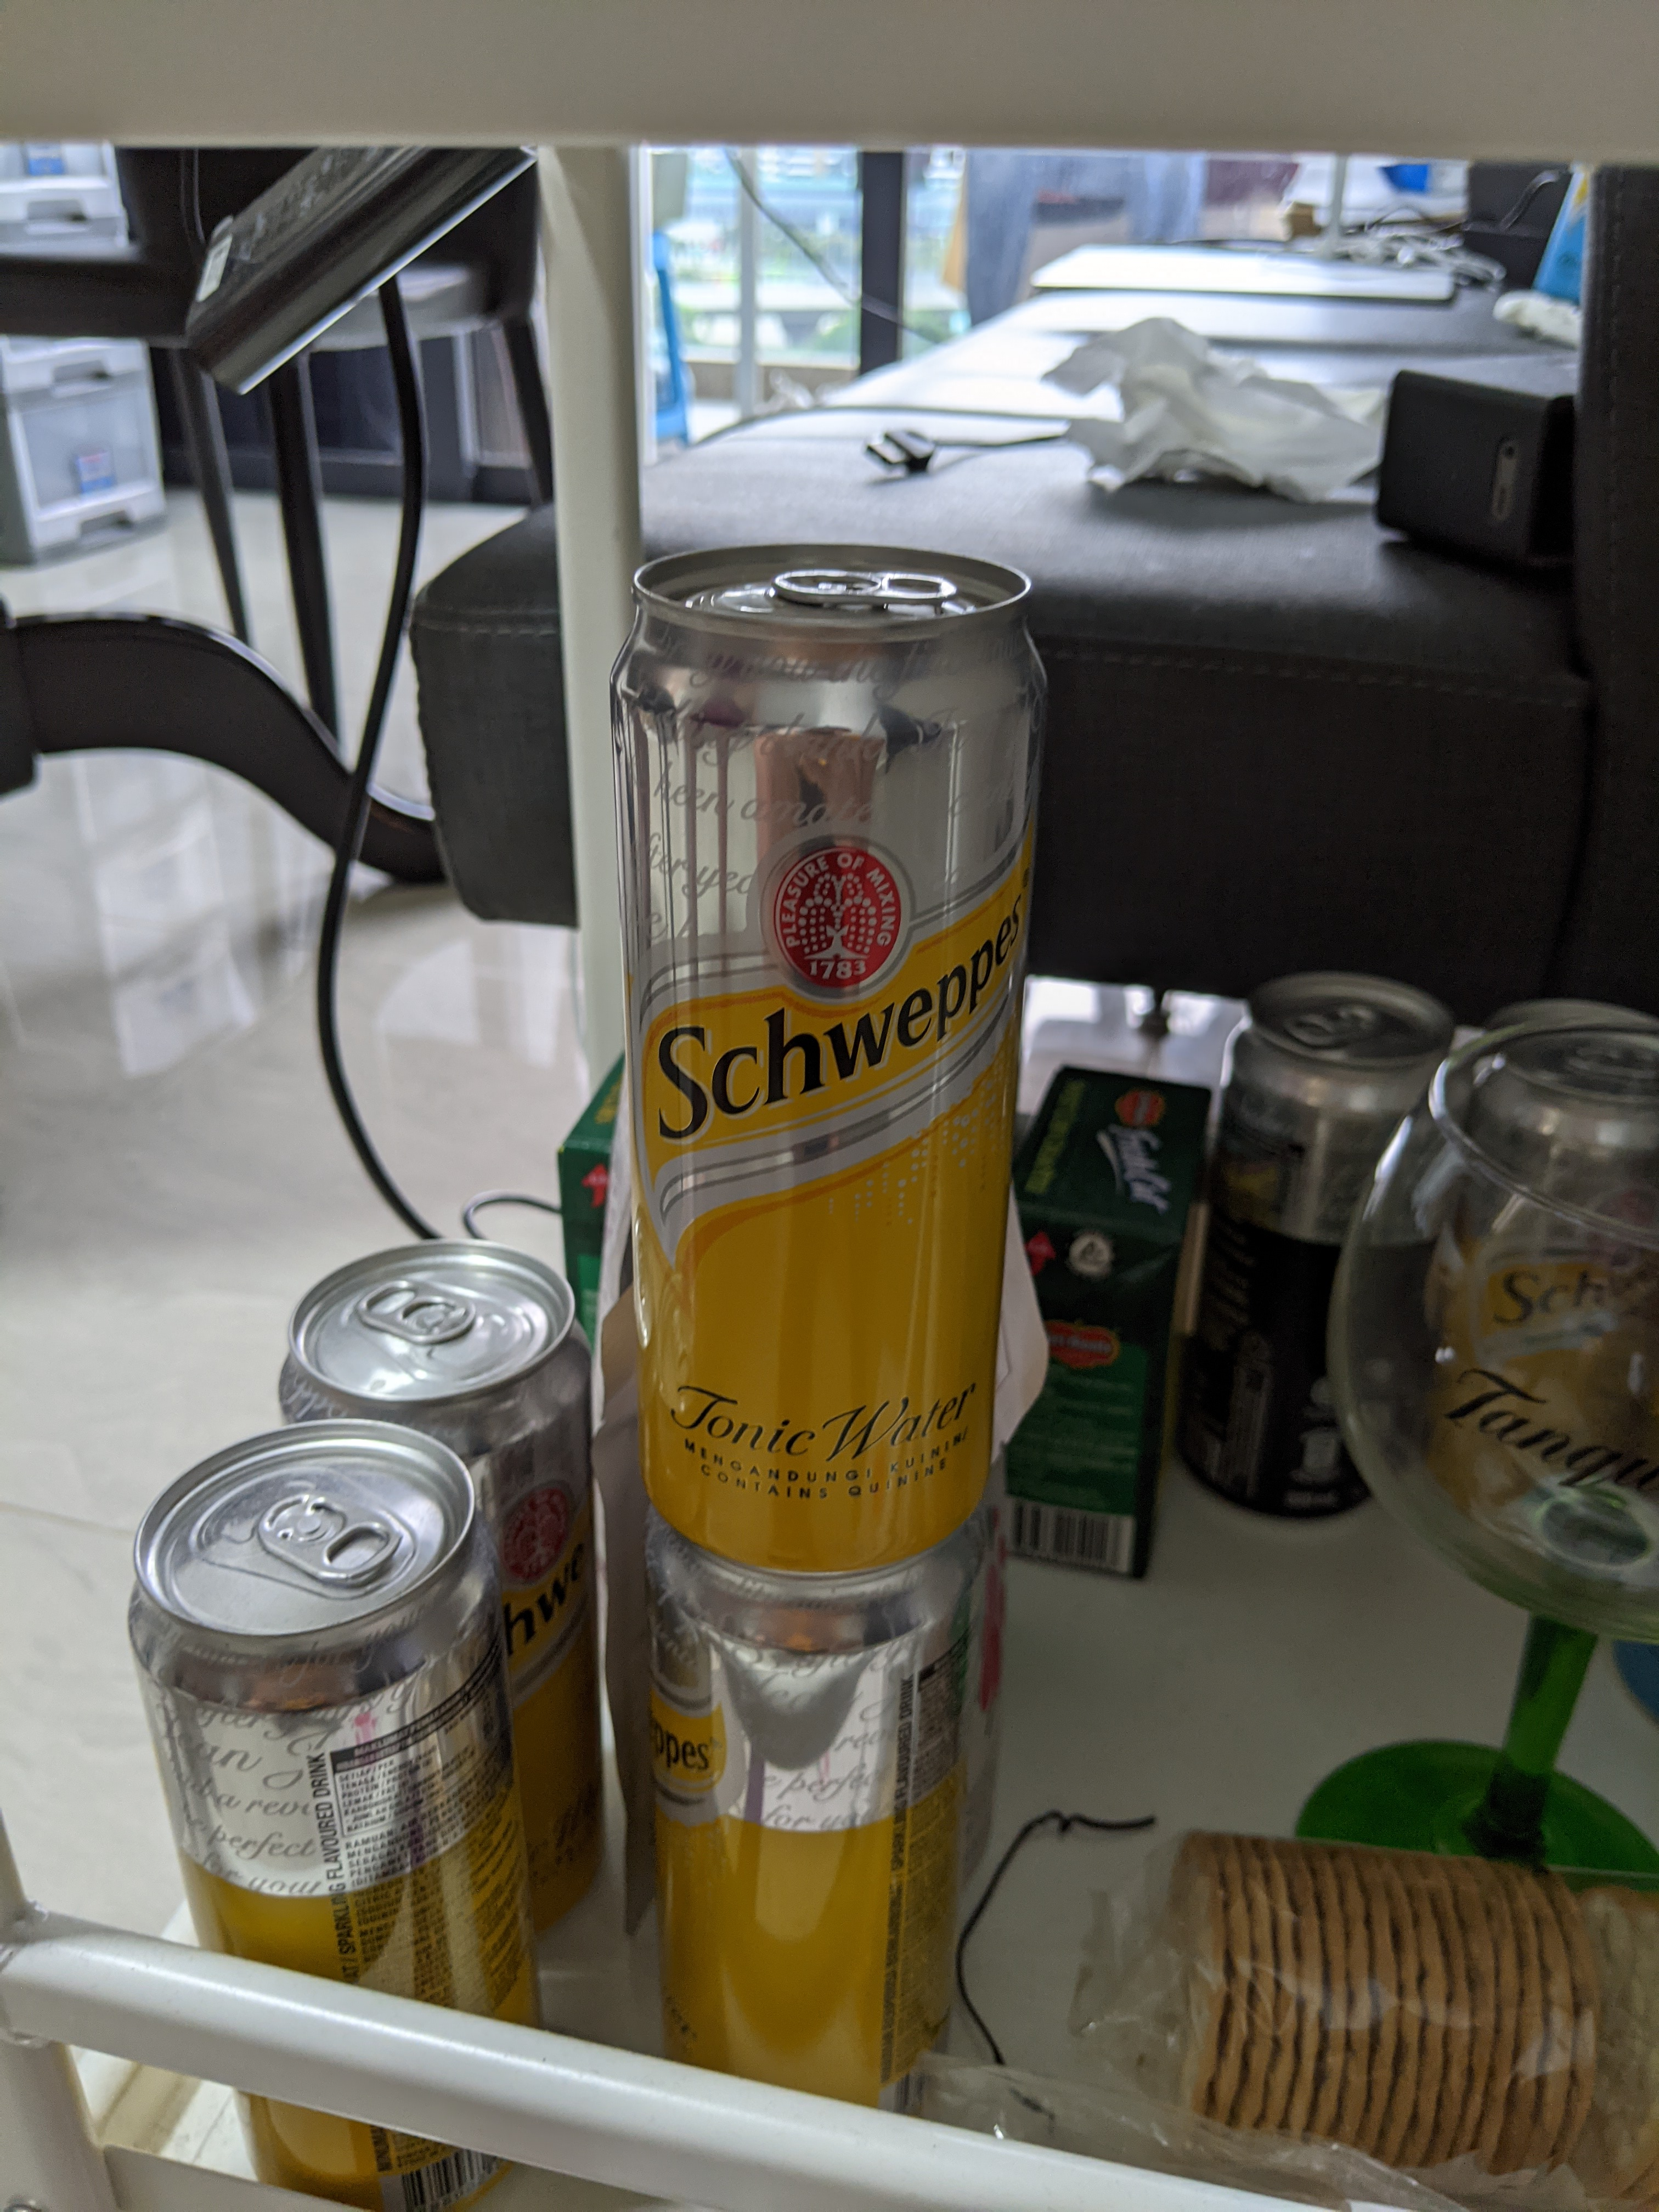schweppes drink can tonic water: (594, 529, 1070, 1597)
